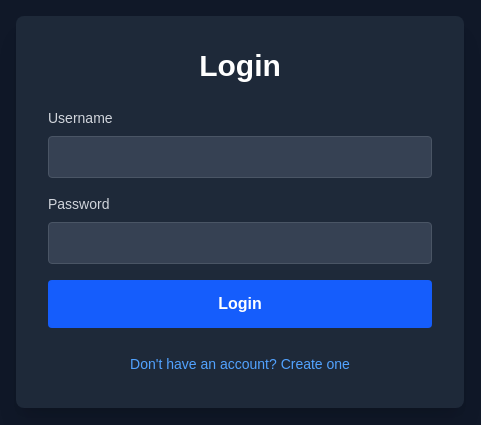
Scenario: Login Page › Login Flow › should disable button while loading
Type "testuser" into the field labelled "Username" at (240, 157), box [48,136,432,178]
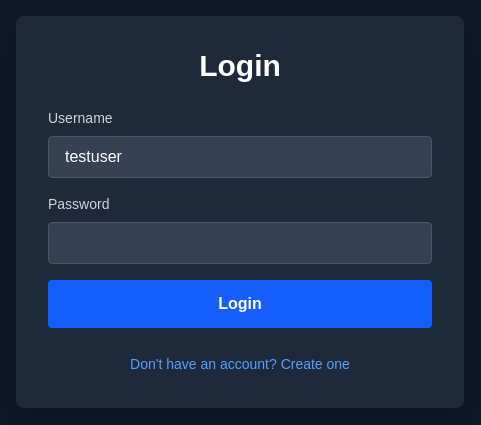
Type "password123" into the password field labelled "Password" at (240, 243), box [48,222,432,264]
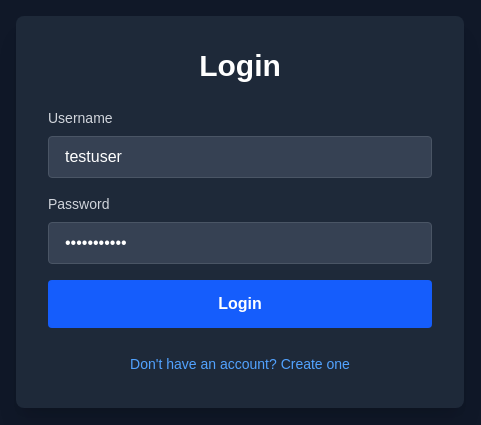
Click the button "Login" at (240, 304), box [48,280,432,328]
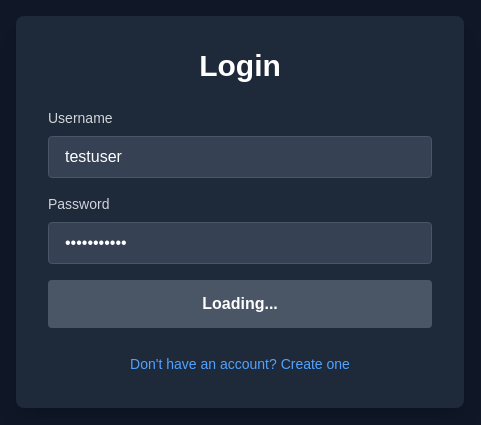
expect the button named "login" is disabled: met, box [48,280,432,328]
